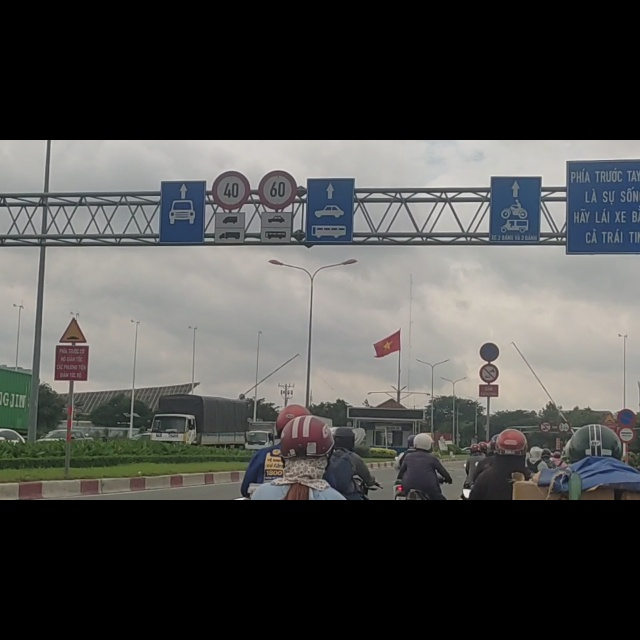bien_cam: (212, 53, 251, 126), (259, 53, 297, 124), (59, 315, 87, 359), (479, 396, 500, 431), (480, 359, 499, 393), (617, 479, 637, 511), (619, 511, 635, 537), (539, 499, 552, 521), (604, 484, 617, 504), (558, 499, 570, 520)
